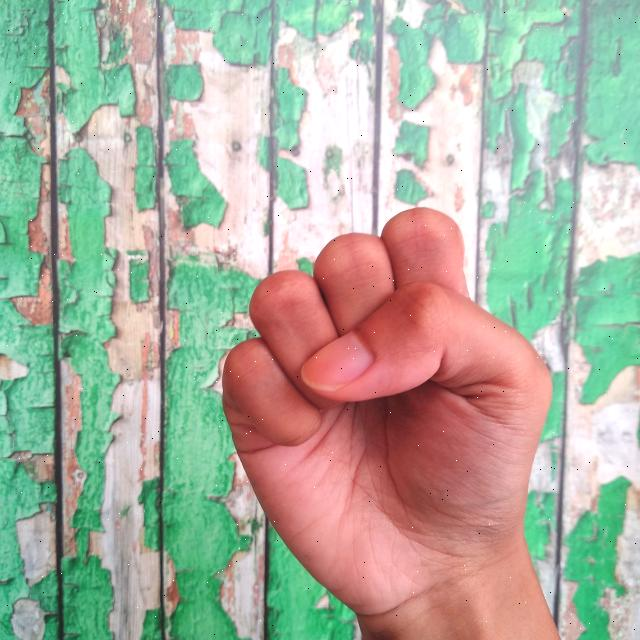S: (217, 197, 566, 640)
